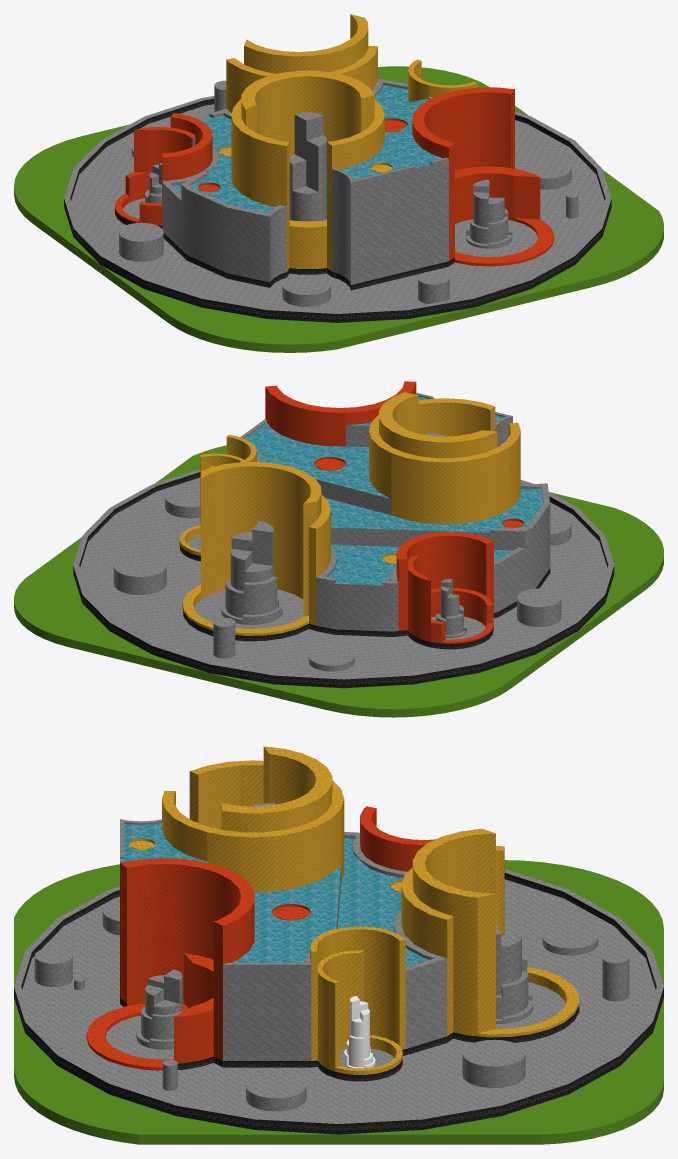
The model's file is Fountain+Fromage.fbx.
The picture shows the model from 3 angles, top to bottom: view 1: azimuth 30°, elevation 25°; view 2: azimuth 150°, elevation 25°; view 3: azimuth 270°, elevation 25°; orthographic projection. The views are drawn at different scales.
Parts seen in each view (by area): view 1: Group1; view 2: Group1; view 3: Group1.
Part boxes in pixels (x1,y1,x2,y2): Group1: (14, 14, 663, 352); Group1: (14, 381, 663, 717); Group1: (14, 746, 663, 1144).
Bounding box in the file's own units: 1844 × 592 × 1844.
